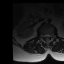CCS_normal: (46, 32, 48, 40)
LFS_normal: (50, 32, 52, 38)
LLS_normal: (48, 32, 50, 39)
RFS_normal: (42, 32, 44, 38)
RLS_normal: (44, 32, 46, 38)
